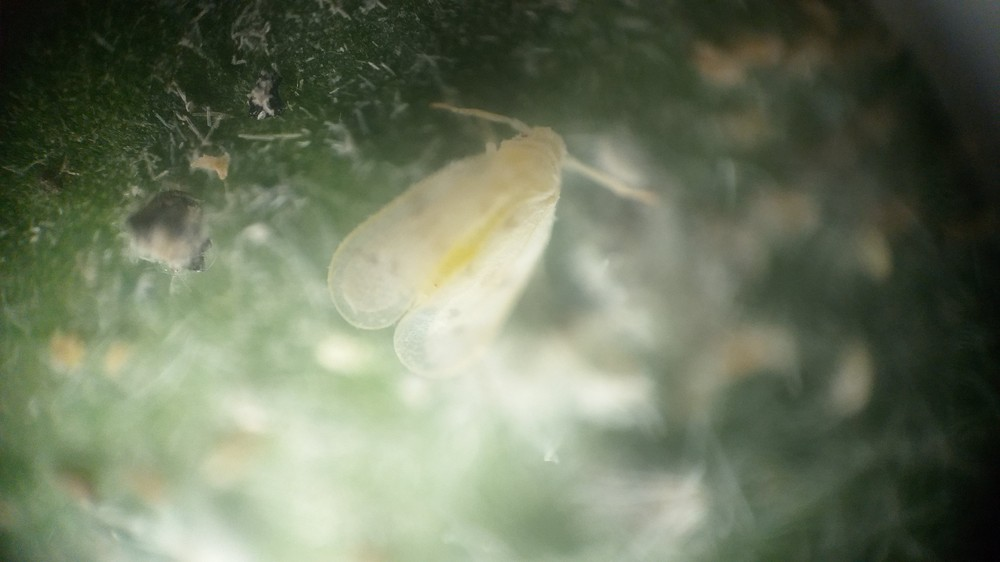Mosca Blanca: (308, 89, 676, 427)
